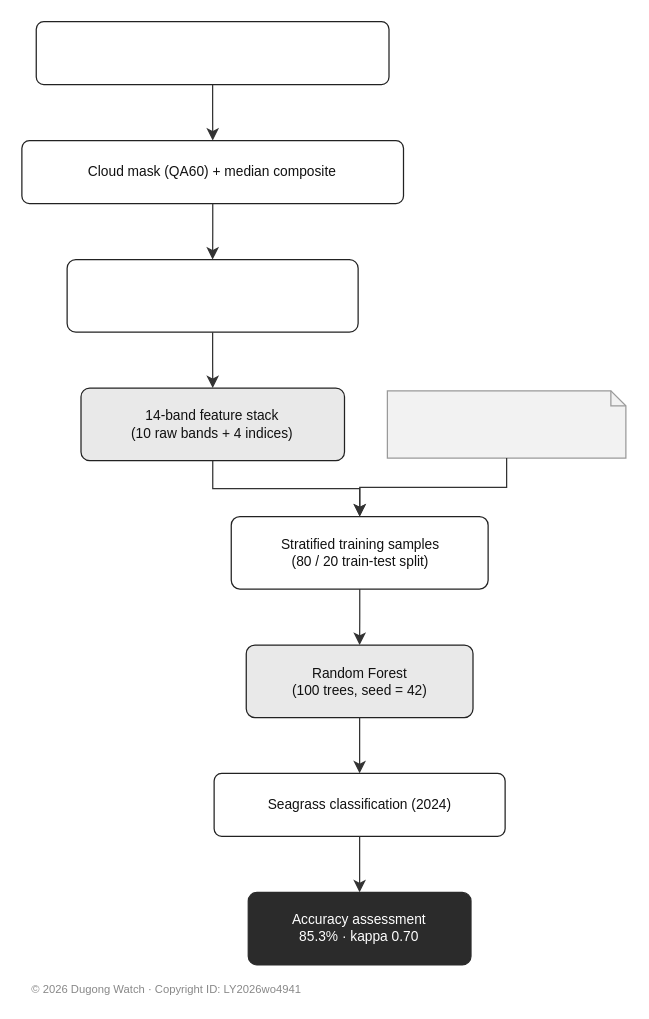
The diagram is 649 pixels wide and 1019 high, and some of its shapes have lost their labels. Here are the shapes that lost their labels. From the top down, the box of each, then its label:
(35, 20, 389, 85): Sentinel-2 image collection (per year)
(66, 258, 358, 332): Spectral indices NDVI · NDWI · MNDWI · BSI
(386, 390, 626, 458): EAD training polygons (seagrass / non-seagrass)
